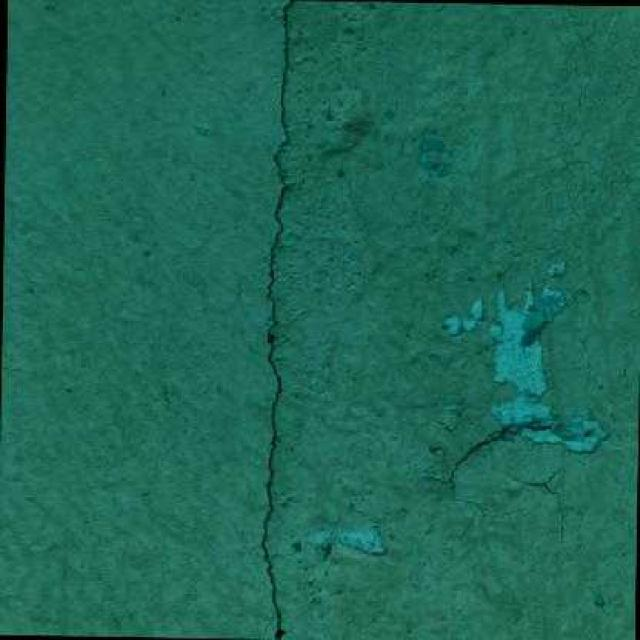D00: (259, 0, 291, 639)
